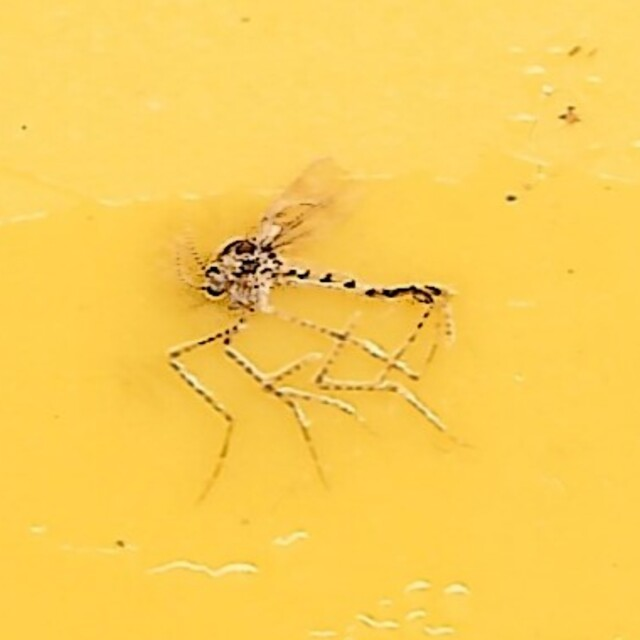Nematocera: (168, 154, 472, 486)
